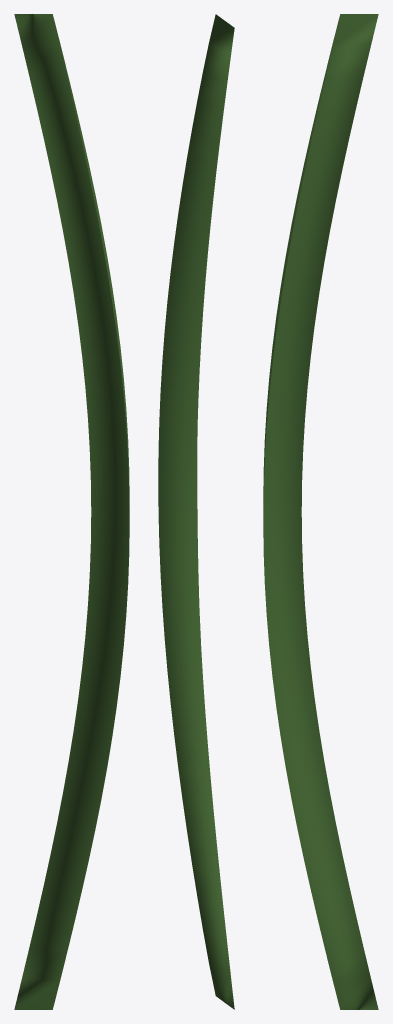
The model's file is leaf-needle.glb.
The picture shows the model from 3 angles, left to right: view 1: azimuth 90°, elevation 25°; view 2: azimuth 210°, elevation 25°; view 3: azimuth 270°, elevation 25°; orthographic projection.
Visible parts, largest first — view 1: tint-surface; view 2: tint-surface; view 3: tint-surface.
Part boxes in pixels (box(x1,y1,x2,y2)): tint-surface: box(14, 14, 129, 1009); tint-surface: box(158, 14, 234, 1009); tint-surface: box(263, 14, 378, 1009).
Bounding box in the file's own units: 0.0416 × 1 × 0.105.
